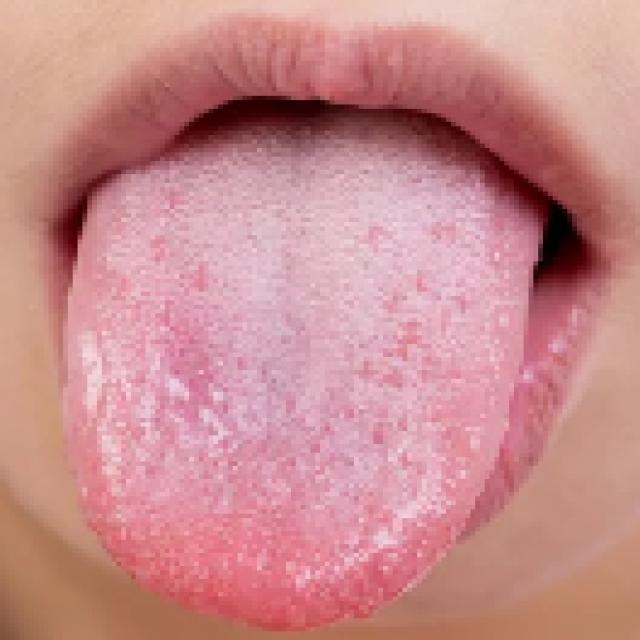No Cancer: (136, 110, 534, 321)
